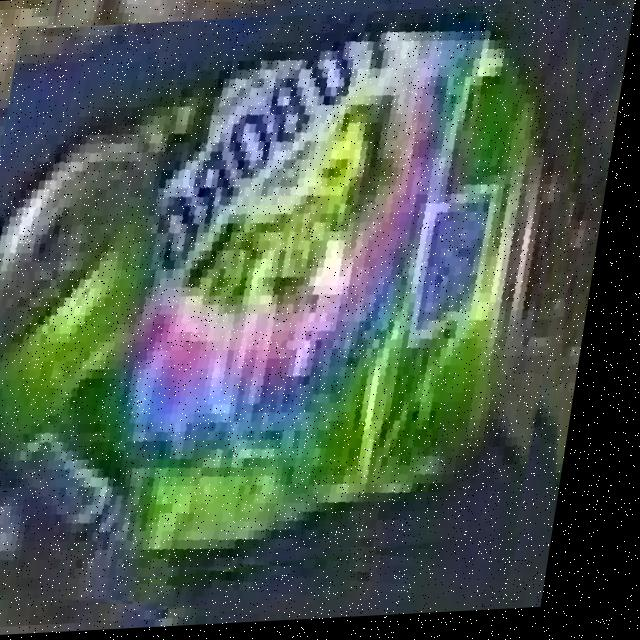litter: (0, 8, 587, 592)
